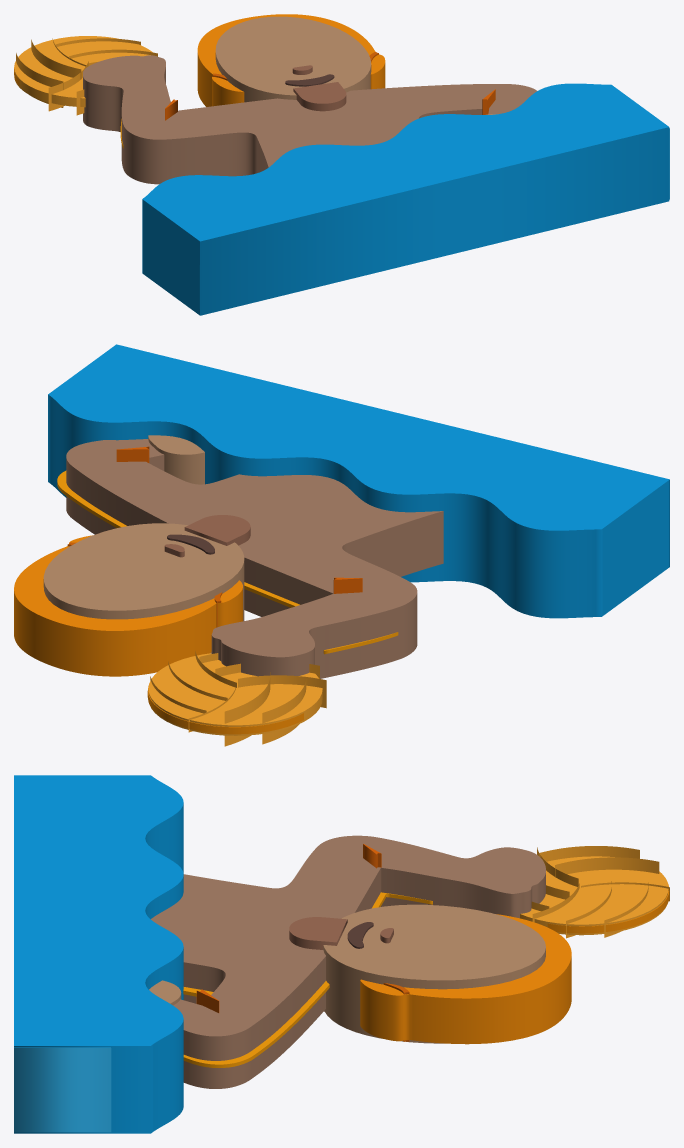
File: emoji_u1f93d_1f3fd.glb
3 renders of one model, top to bottom at view 1: azimuth 30°, elevation 25°; view 2: azimuth 150°, elevation 25°; view 3: azimuth 270°, elevation 25°, orthographic. The views are drawn at different scales.
Parts seen in each view (by area): view 1: emoji_u1f93d_1f3fd; view 2: emoji_u1f93d_1f3fd; view 3: emoji_u1f93d_1f3fd.
Part boxes in pixels (x1,y1,x2,y2): emoji_u1f93d_1f3fd: (14,14,669,315); emoji_u1f93d_1f3fd: (14,344,669,746); emoji_u1f93d_1f3fd: (14,775,669,1133).
Size of the model in its own units: 0.0331 by 0.005 by 0.0339.
